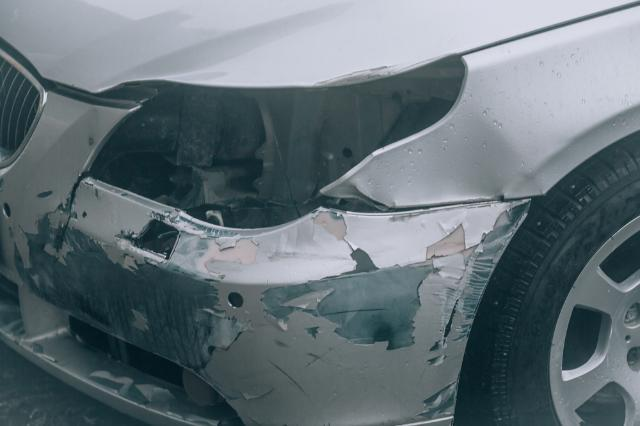crack: (59, 170, 91, 251)
dent: (350, 93, 542, 208)
no part: (85, 55, 460, 231)
rub: (9, 201, 515, 422)
